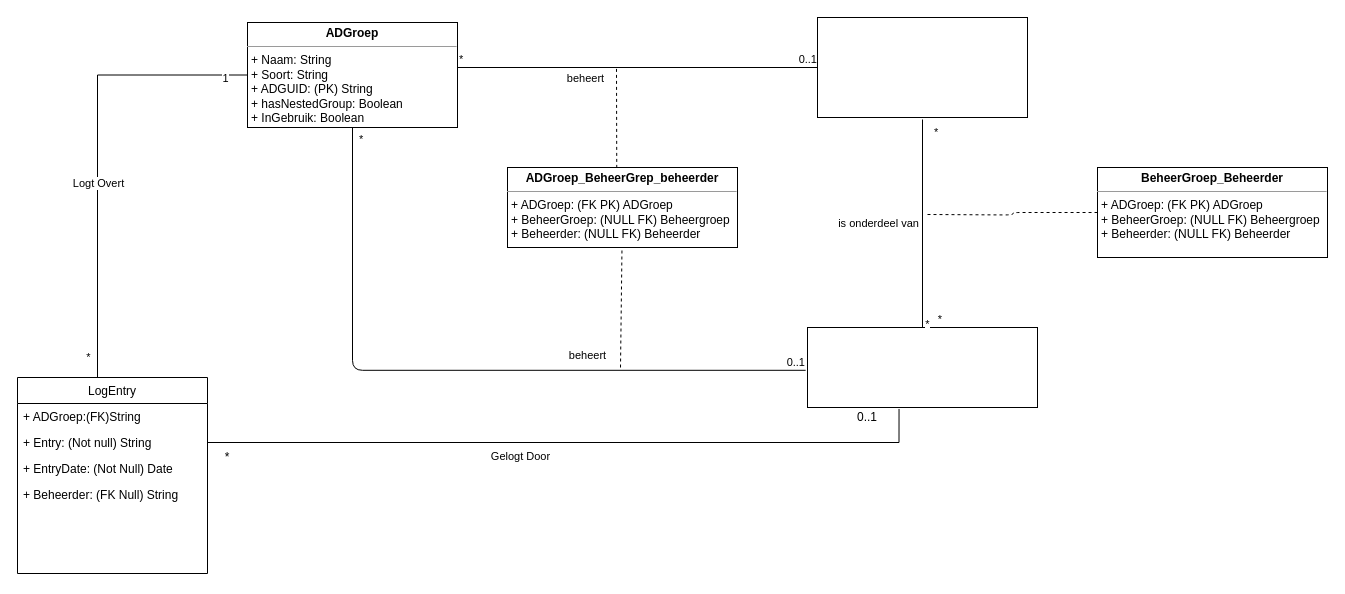
Some shapes in this 1345 by 594 pixel diagram are drawn without their labels. Each missing label, with the centre of its shape:
Beheerder + NetwerkID: (PK) String + Naam: String + Email: String: the point at 922,367
BeheerGroep + Naam: String: the point at 922,67
